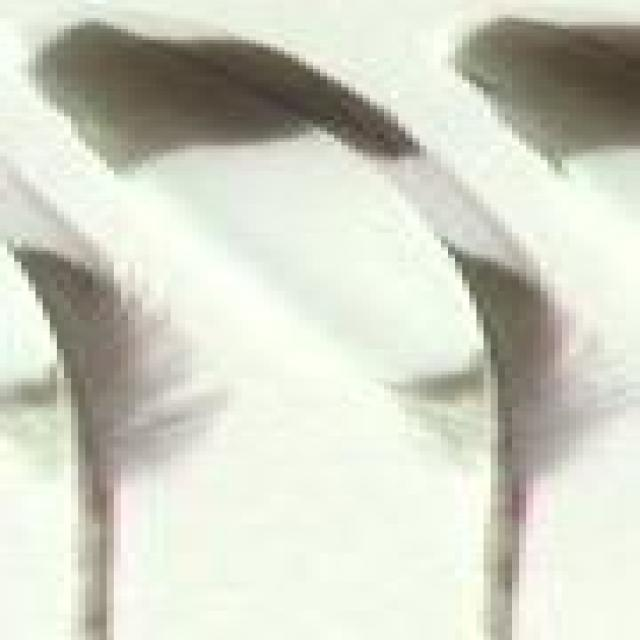feather: (0, 0, 640, 640), (0, 165, 213, 640)
